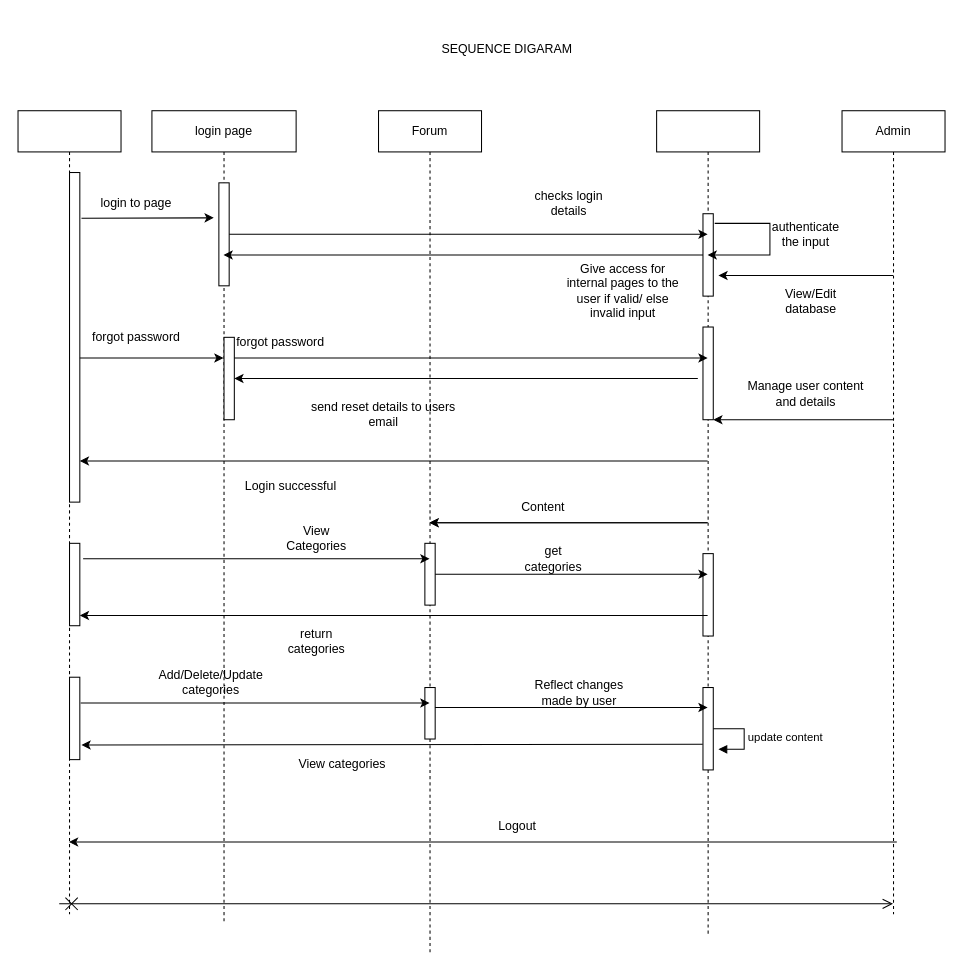
This 963x973 diagram has some shape labels left out. The shapes that lost their labels are listed below. From the top down, each one's centre as x and y in pixels, then its label:
[69,512]: user
[708,522]: database
